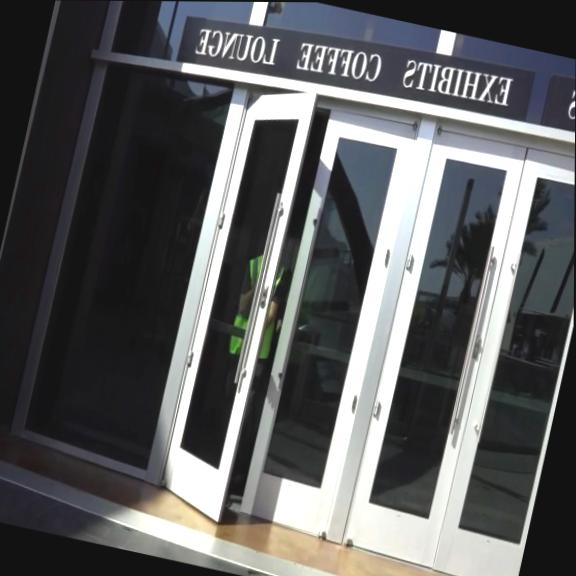safety_vest: (226, 252, 290, 362)
